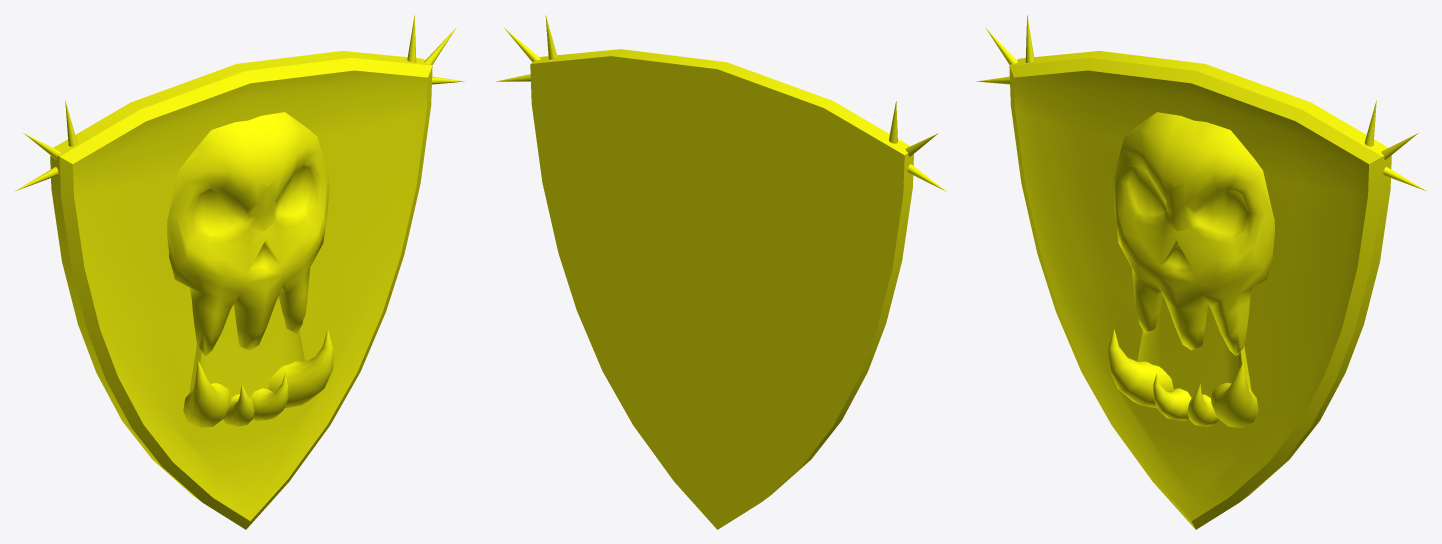
File: Dark_Shield.glb
3 renders of one model, left to right at view 1: azimuth 30°, elevation 25°; view 2: azimuth 150°, elevation 25°; view 3: azimuth 330°, elevation 25°, orthographic.
Visible parts, largest first — view 1: Dark_Shield; view 2: Dark_Shield; view 3: Dark_Shield.
Boxes of the visible parts, box(x1,y1,x2,y2) form: Dark_Shield: box(15, 15, 465, 529); Dark_Shield: box(495, 15, 946, 529); Dark_Shield: box(976, 15, 1426, 529).
Size of the model in its own units: 3.47 by 3.44 by 0.4262.
Materials: 1 (1 with a texture image).
